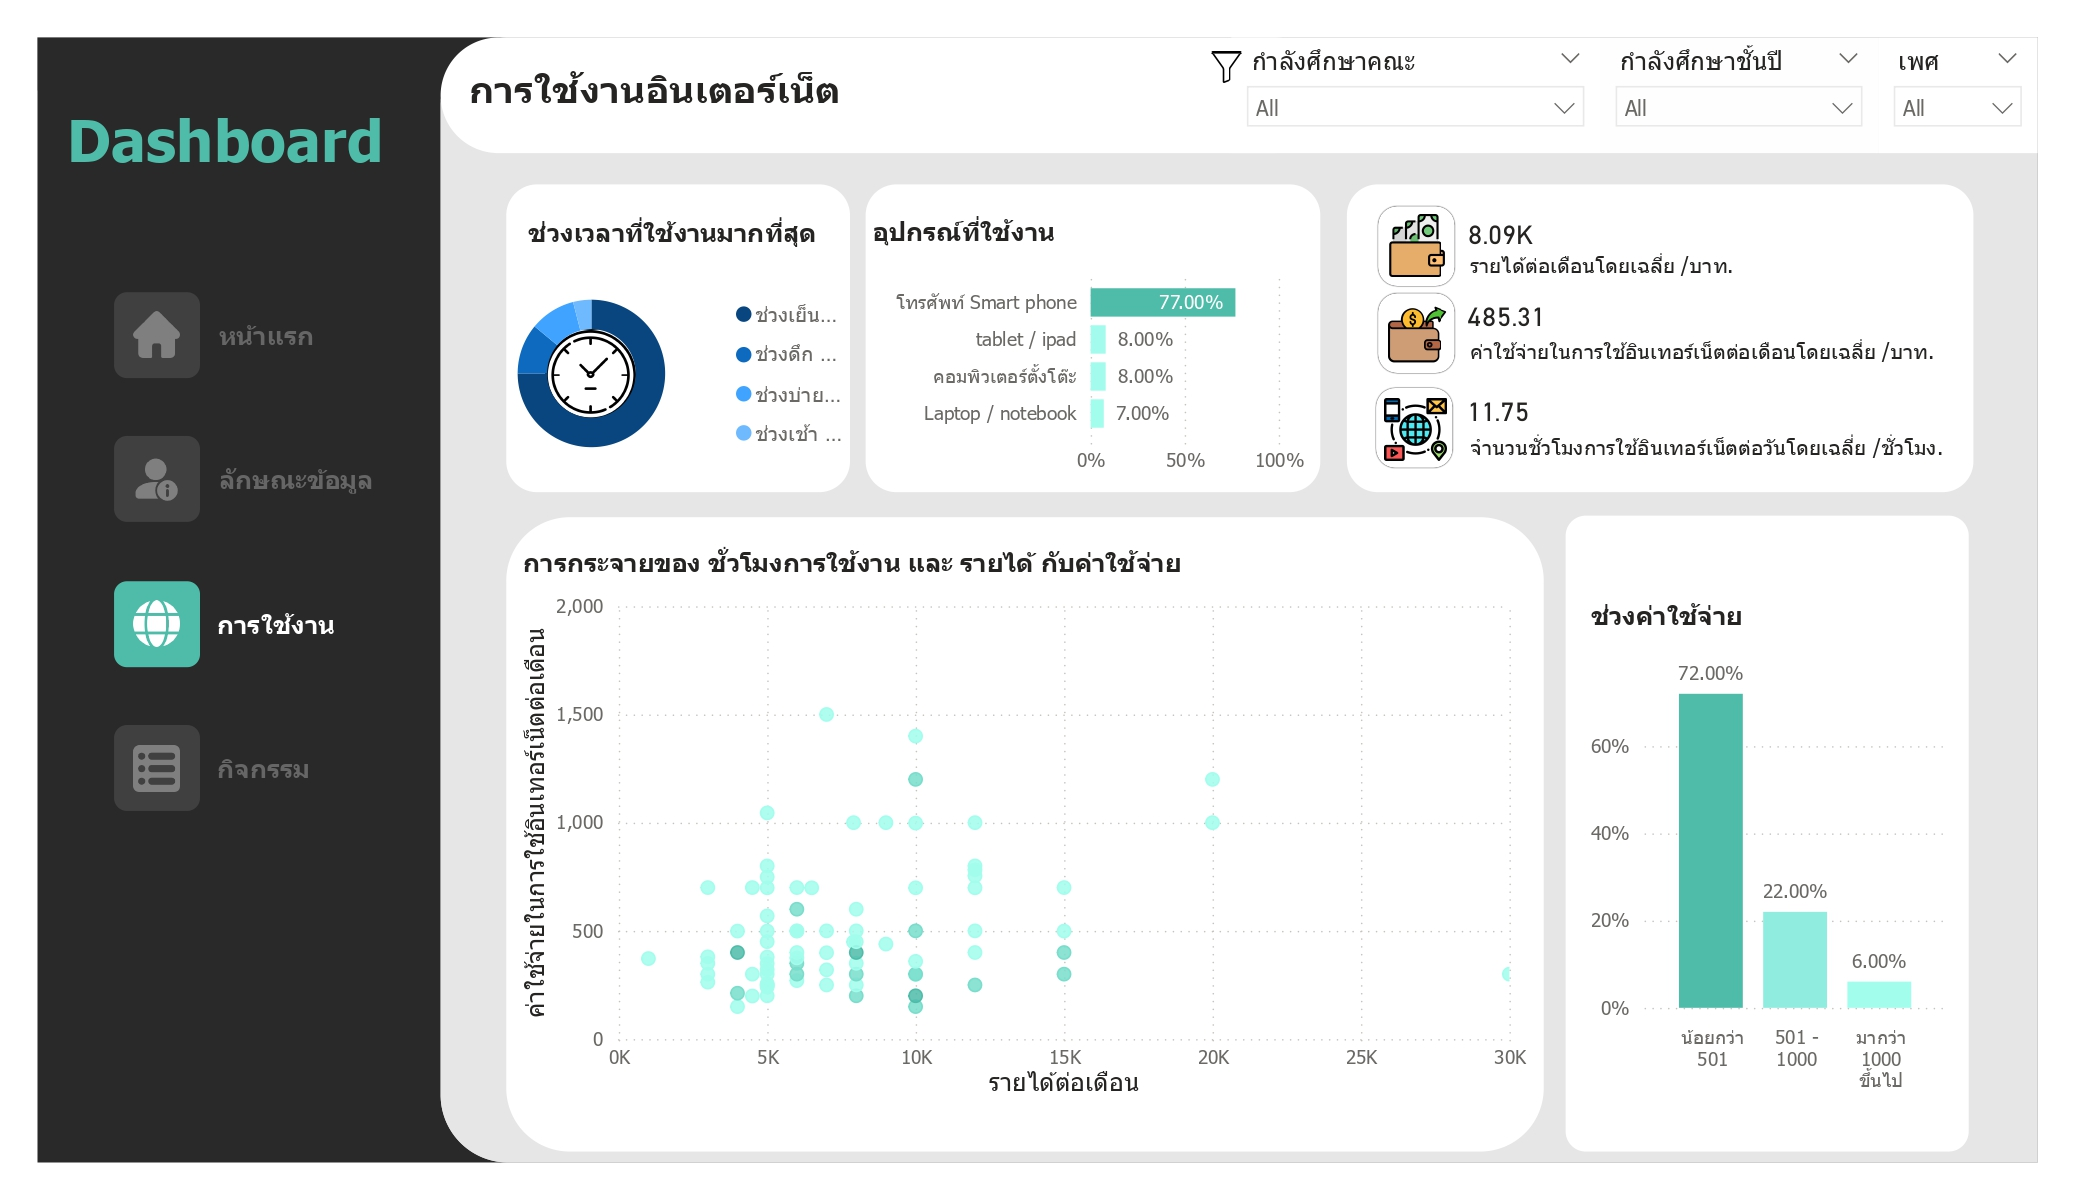

The page's visual inventory and layout, read from the dashboard file:
{"tool":"powerbi","page":{"name":"การใช้งานอินเตอร์เน็ต","canvas":[1280,720],"ordinal":2},"visuals":[{"type":"shape","box":[258,0,1022,720],"z":0},{"type":"shape","box":[300,94,220,197],"z":1000},{"type":"shape","box":[838,94,401,197],"z":2000},{"type":"shape","box":[978.5,306.5,257.2,406],"z":3000},{"type":"shape","box":[857,107,51,53],"z":4000},{"type":"shape","box":[857,163,51,53],"z":5000},{"type":"shape","box":[856,223,51,53],"z":6000},{"type":"image","box":[858,108,50,50],"z":7000},{"type":"image","box":[858,165,50,50],"z":8000},{"type":"image","box":[857,226,50,50],"z":9000},{"type":"card","fields":{"Values":["Avg(normalized_dataset.รายได้ต่อเดือน)"]},"box":[849,102,175,50],"z":10000},{"type":"card","fields":{"Values":["Avg(normalized_dataset.ค่าใช้จ่ายในการใช้อินเทอร์เน็ตต่อเดือน)"]},"box":[906,154,68,50],"z":11000},{"type":"card","fields":{"Values":["Avg(normalized_dataset.จํานวนชั่วโมงการใช้อินเทอร์เน็ตต่อวัน)"]},"box":[906,215,58,50],"z":12000},{"type":"textbox","box":[912,133,226,38],"z":13000},{"type":"textbox","box":[912,188,323,38],"z":14000},{"type":"textbox","box":[912,249,368,38],"z":15000},{"type":"slicer","fields":{"Values":["normalized_dataset.กำลังศึกษาชั้นปี"]},"box":[1000,0,177.8,74.4],"z":16000},{"type":"shape","box":[257.8,0,571.1,74.4],"z":17000},{"type":"slicer","fields":{"Values":["normalized_dataset.เพศ"]},"box":[1177.8,0,102.2,74.4],"z":18000},{"type":"slicer","fields":{"Values":["normalized_dataset.กำลังศึกษาคณะ"]},"box":[764.4,0,235.6,74.4],"z":19000},{"type":"textbox","box":[271.1,13.3,462.2,70],"z":20000},{"type":"image","box":[742.7,3.6,36.4,30],"z":21000},{"type":"textbox","box":[309,110,202,50],"z":22000},{"type":"shape","box":[530,94,291,197],"z":23000},{"type":"shape","box":[300.2,306.6,663.9,406.1],"z":24000},{"type":"barChart","title":"อุปกรณ์ที่ใช้งาน","fields":{"Category":["normalized_dataset.อุปกรณ์ที่เข้าใช้อินเทอร์เน็ตใดเป็นหลัก"],"Y":["CountNonNull(normalized_dataset.อุปกรณ์ที่เข้าใช้อินเทอร์เน็ตใดเป็นหลัก)"]},"box":[530,114,291,173],"z":25000},{"type":"image","box":[311.2,182.1,85.1,68.1],"z":26000},{"type":"donutChart","title":"กิจกรรมที่นิยมเป็นอันดับ #1","fields":{"Category":["normalized_dataset.ช่วงเวลาที่ใช้งานอินเตอร์เน็ตมากที่สุด"],"Y":["CountNonNull(normalized_dataset.ช่วงเวลาที่ใช้งานอินเตอร์เน็ตมากที่สุด)"]},"box":[258,151,272,128],"z":27000},{"type":"scatterChart","title":"การกระจายของ ชั่วโมงการใช้งาน เเละ รายได้ กับค่าใช้จ่าย","fields":{"X":["normalized_dataset.รายได้ต่อเดือน","normalized_dataset.จํานวนชั่วโมงการใช้อินเทอร์เน็ตต่อวัน"],"Y":["normalized_dataset.ค่าใช้จ่ายในการใช้อินเทอร์เน็ตต่อเดือน"]},"box":[306.2,325.6,652.1,356.6],"z":28000},{"type":"clusteredColumnChart","title":"ช่วงค่าใช้จ่าย","fields":{"Category":["normalized_dataset.ช่วงค่าใช้จ่ายอินเตอร์เน็ต"],"Y":["CountNonNull(normalized_dataset.ช่วงค่าใช้จ่ายอินเตอร์เน็ต)"]},"box":[989,360.1,239.4,322.3],"z":29000},{"type":"shape","box":[49.2,255,55,55],"z":30000},{"type":"shape","box":[49.2,347.5,55,55],"z":31000},{"type":"shape","box":[49.2,440,55,55],"z":32000},{"type":"image","box":[56.1,262.2,40.3,40.3],"z":33000},{"type":"image","box":[56.1,447.3,40.3,40.3],"z":34000},{"type":"actionButton","box":[111.5,354.8,149.1,40.5],"z":35000},{"type":"actionButton","box":[111.5,447.4,149.1,40.5],"z":36000},{"type":"actionButton","box":[111.9,261.6,148.8,40.9],"z":37000},{"type":"textbox","box":[13.6,37.9,234.4,67.1],"z":38000},{"type":"shape","box":[49.2,162.5,55,55],"z":39000},{"type":"image","box":[56.4,170.2,39.9,39.9],"z":40000},{"type":"actionButton","box":[111.9,170.2,148.8,40.9],"z":41000},{"type":"image","box":[56,355.1,40.2,40.2],"z":42000}]}

Visuals, with their boxes on the page's 1280x720 design canvas (x1, y1, x2, y2). These are canvas units, not pixel positions in the 2075x1200 screenshot, which may show the page scaled, cropped or inside an application window:
shape: {"x1": 258, "y1": 0, "x2": 1280, "y2": 720}
shape: {"x1": 300, "y1": 94, "x2": 520, "y2": 291}
shape: {"x1": 838, "y1": 94, "x2": 1239, "y2": 291}
shape: {"x1": 978, "y1": 306, "x2": 1236, "y2": 712}
shape: {"x1": 857, "y1": 107, "x2": 908, "y2": 160}
shape: {"x1": 857, "y1": 163, "x2": 908, "y2": 216}
shape: {"x1": 856, "y1": 223, "x2": 907, "y2": 276}
image: {"x1": 858, "y1": 108, "x2": 908, "y2": 158}
image: {"x1": 858, "y1": 165, "x2": 908, "y2": 215}
image: {"x1": 857, "y1": 226, "x2": 907, "y2": 276}
card - Avg(normalized_dataset.รายได้ต่อเดือน): {"x1": 849, "y1": 102, "x2": 1024, "y2": 152}
card - Avg(normalized_dataset.ค่าใช้จ่ายในการใช้อินเทอร์เน็ตต่อเดือน): {"x1": 906, "y1": 154, "x2": 974, "y2": 204}
card - Avg(normalized_dataset.จํานวนชั่วโมงการใช้อินเทอร์เน็ตต่อวัน): {"x1": 906, "y1": 215, "x2": 964, "y2": 265}
textbox: {"x1": 912, "y1": 133, "x2": 1138, "y2": 171}
textbox: {"x1": 912, "y1": 188, "x2": 1235, "y2": 226}
textbox: {"x1": 912, "y1": 249, "x2": 1280, "y2": 287}
slicer - normalized_dataset.กำลังศึกษาชั้นปี: {"x1": 1000, "y1": 0, "x2": 1178, "y2": 74}
shape: {"x1": 258, "y1": 0, "x2": 829, "y2": 74}
slicer - normalized_dataset.เพศ: {"x1": 1178, "y1": 0, "x2": 1280, "y2": 74}
slicer - normalized_dataset.กำลังศึกษาคณะ: {"x1": 764, "y1": 0, "x2": 1000, "y2": 74}
textbox: {"x1": 271, "y1": 13, "x2": 733, "y2": 83}
image: {"x1": 743, "y1": 4, "x2": 779, "y2": 34}
textbox: {"x1": 309, "y1": 110, "x2": 511, "y2": 160}
shape: {"x1": 530, "y1": 94, "x2": 821, "y2": 291}
shape: {"x1": 300, "y1": 307, "x2": 964, "y2": 713}
"อุปกรณ์ที่ใช้งาน" barChart: {"x1": 530, "y1": 114, "x2": 821, "y2": 287}
image: {"x1": 311, "y1": 182, "x2": 396, "y2": 250}
"กิจกรรมที่นิยมเป็นอันดับ #1" donutChart: {"x1": 258, "y1": 151, "x2": 530, "y2": 279}
"การกระจายของ ชั่วโมงการใช้งาน เเละ รายได้ กับค่าใช้จ่าย" scatterChart: {"x1": 306, "y1": 326, "x2": 958, "y2": 682}
"ช่วงค่าใช้จ่าย" clusteredColumnChart: {"x1": 989, "y1": 360, "x2": 1228, "y2": 682}
shape: {"x1": 49, "y1": 255, "x2": 104, "y2": 310}
shape: {"x1": 49, "y1": 348, "x2": 104, "y2": 402}
shape: {"x1": 49, "y1": 440, "x2": 104, "y2": 495}
image: {"x1": 56, "y1": 262, "x2": 96, "y2": 302}
image: {"x1": 56, "y1": 447, "x2": 96, "y2": 488}
actionButton: {"x1": 112, "y1": 355, "x2": 261, "y2": 395}
actionButton: {"x1": 112, "y1": 447, "x2": 261, "y2": 488}
actionButton: {"x1": 112, "y1": 262, "x2": 261, "y2": 302}
textbox: {"x1": 14, "y1": 38, "x2": 248, "y2": 105}
shape: {"x1": 49, "y1": 162, "x2": 104, "y2": 218}
image: {"x1": 56, "y1": 170, "x2": 96, "y2": 210}
actionButton: {"x1": 112, "y1": 170, "x2": 261, "y2": 211}
image: {"x1": 56, "y1": 355, "x2": 96, "y2": 395}
